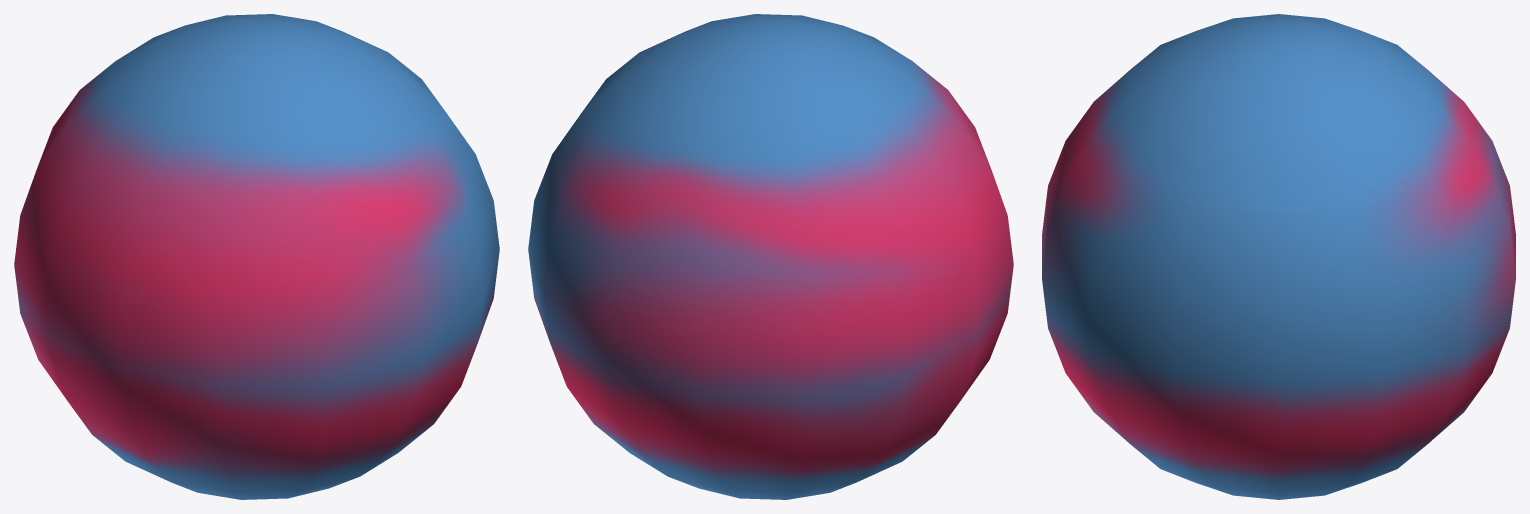
Rendered from Menu Planet.fbx.
The picture shows the model from 3 angles, left to right: view 1: azimuth 30°, elevation 25°; view 2: azimuth 150°, elevation 25°; view 3: azimuth 270°, elevation 25°; orthographic projection.
Visible parts, largest first — view 1: Planet_Atmosphere1; view 2: Planet_Atmosphere1; view 3: Planet_Atmosphere1.
Boxes of the visible parts, left/top/right/bottom form: Planet_Atmosphere1: left=14, top=14, right=499, bottom=499; Planet_Atmosphere1: left=528, top=14, right=1013, bottom=499; Planet_Atmosphere1: left=1042, top=14, right=1515, bottom=499.
Size of the model in its own units: 2 by 2 by 1.95.
